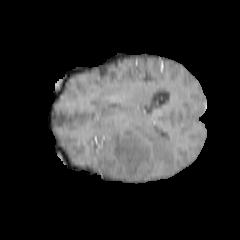glioma: (87, 121, 176, 179)
